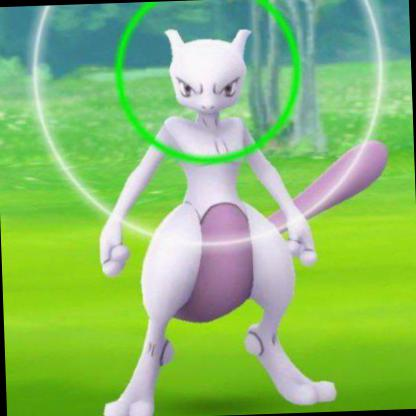Mewtu: (19, 47, 400, 394)
